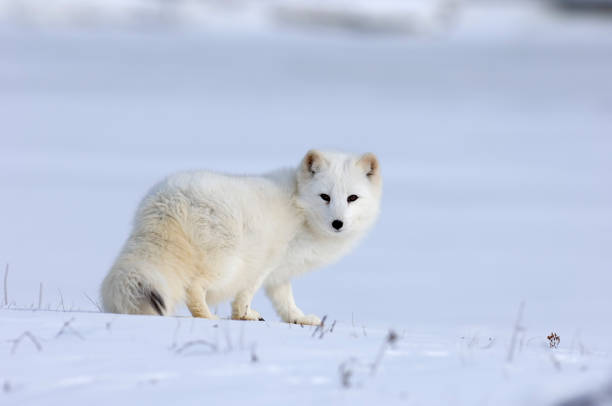arcticfox: (310, 166, 369, 246)
